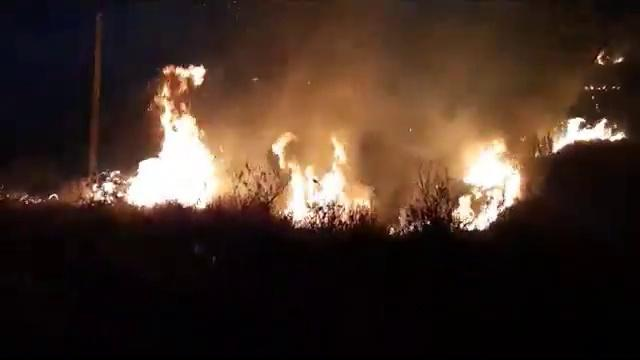fire: (143, 134, 210, 206), (468, 153, 521, 215), (289, 167, 346, 223)
